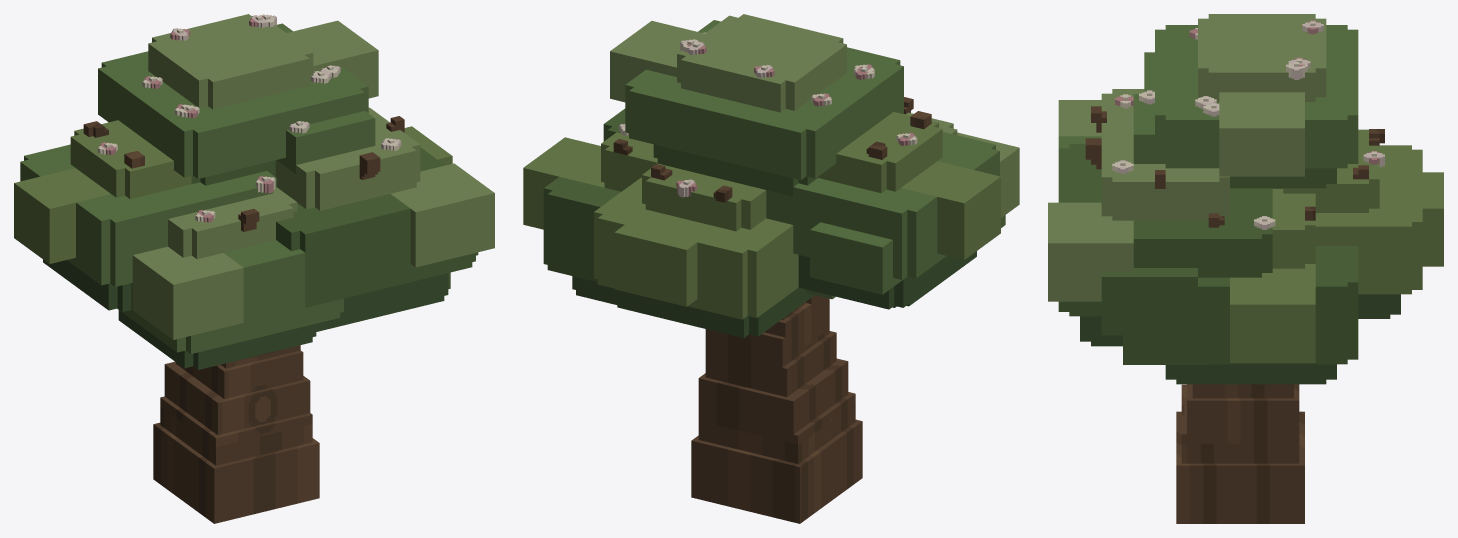
The model's file is apple_mature_spring.glb.
3 renders of one model, left to right at view 1: azimuth 30°, elevation 25°; view 2: azimuth 150°, elevation 25°; view 3: azimuth 270°, elevation 25°, orthographic. The views are drawn at different scales.
Parts seen in each view (by area): view 1: VoxelVisual; view 2: VoxelVisual; view 3: VoxelVisual.
Part boxes in pixels (left/top/right/bottom): VoxelVisual: left=14, top=14, right=494, bottom=523; VoxelVisual: left=523, top=14, right=1019, bottom=523; VoxelVisual: left=1048, top=14, right=1443, bottom=523.
Size of what is drawn, in the model's own units: 11.75 by 11.94 by 9.25.
